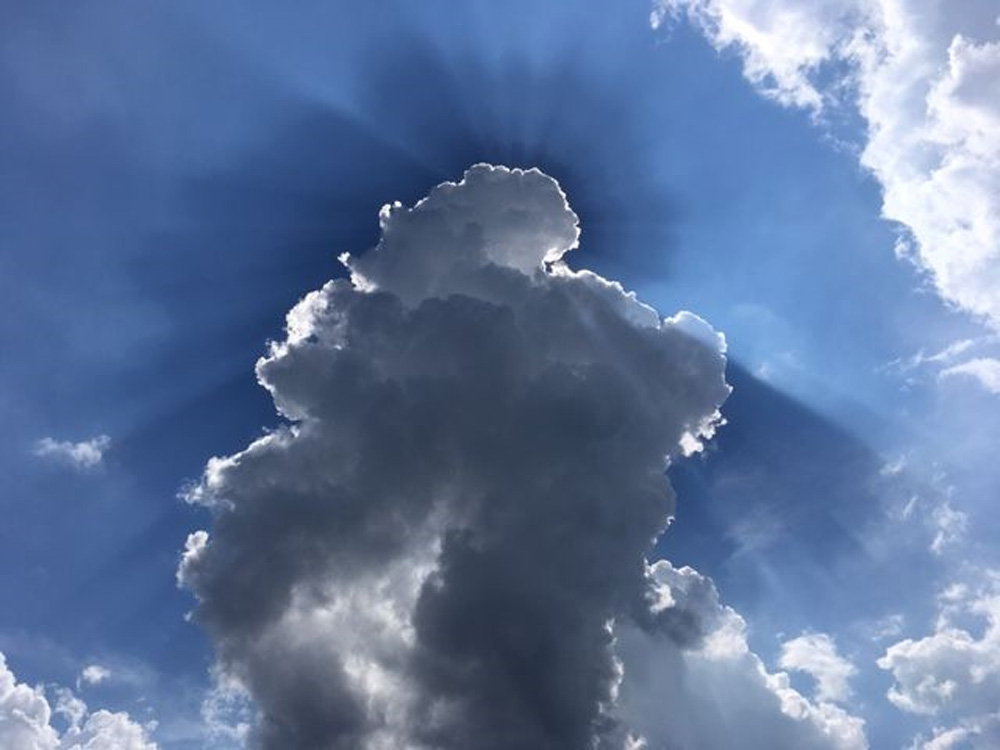Cumulus: (121, 97, 849, 750)
